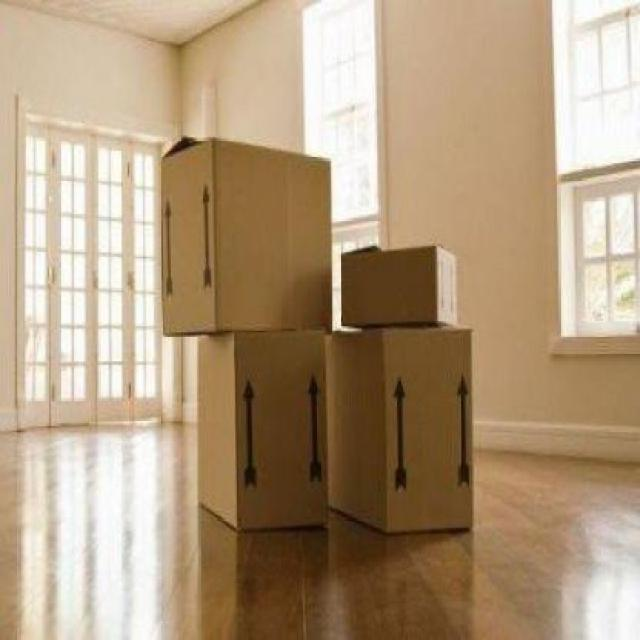cardboxes: (159, 131, 333, 343), (323, 313, 474, 542), (192, 330, 326, 538), (338, 241, 460, 336)
